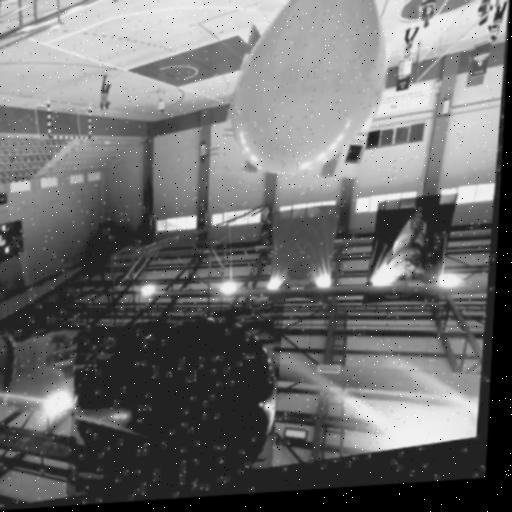balloon: (67, 306, 285, 499), (221, 0, 404, 196)
